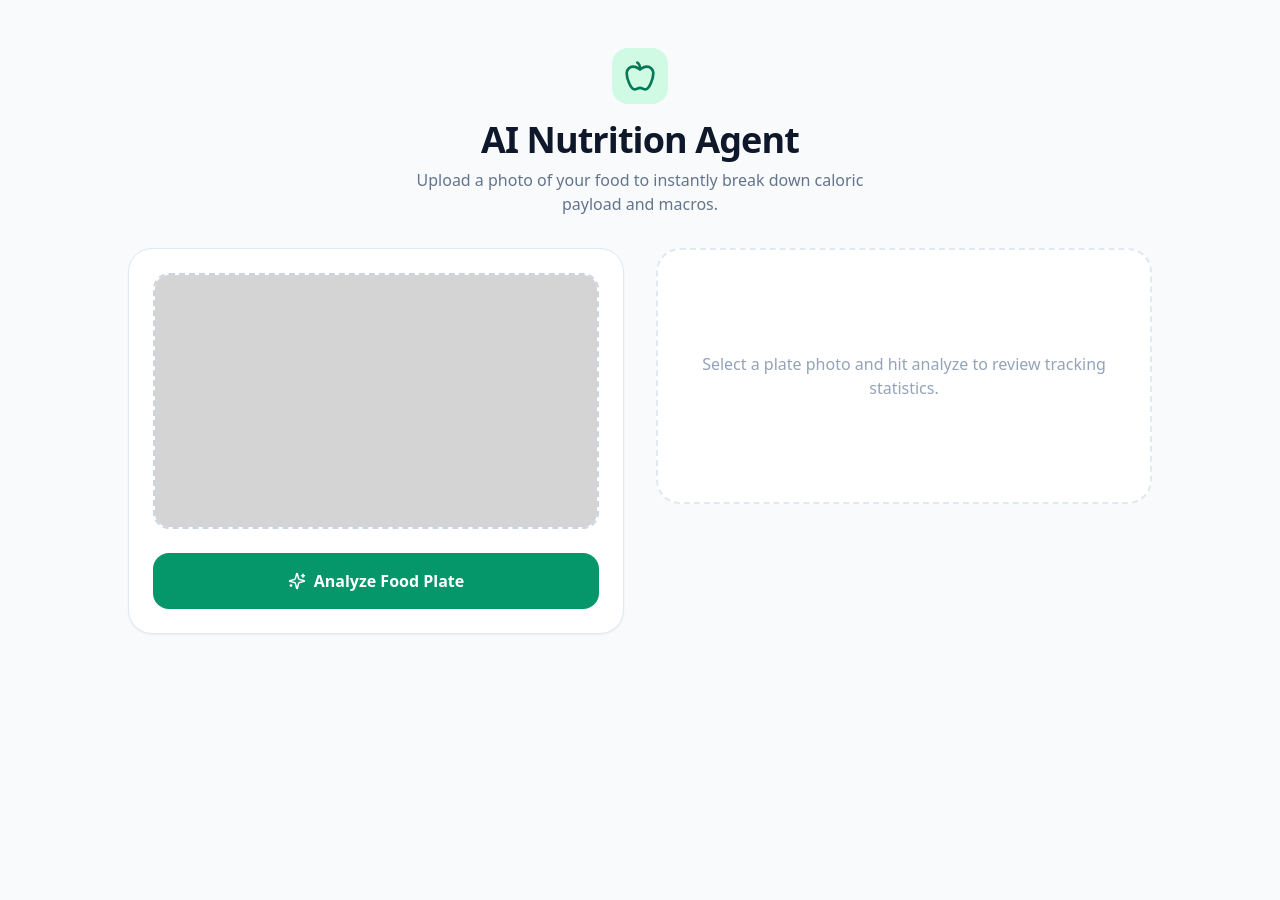
Test: Home page › analyze flow › renders total calories, confidence and macro totals
Earlier steps of the test are not shown.
Click the button.
click(376, 581)  # box 153,553 -> 599,609
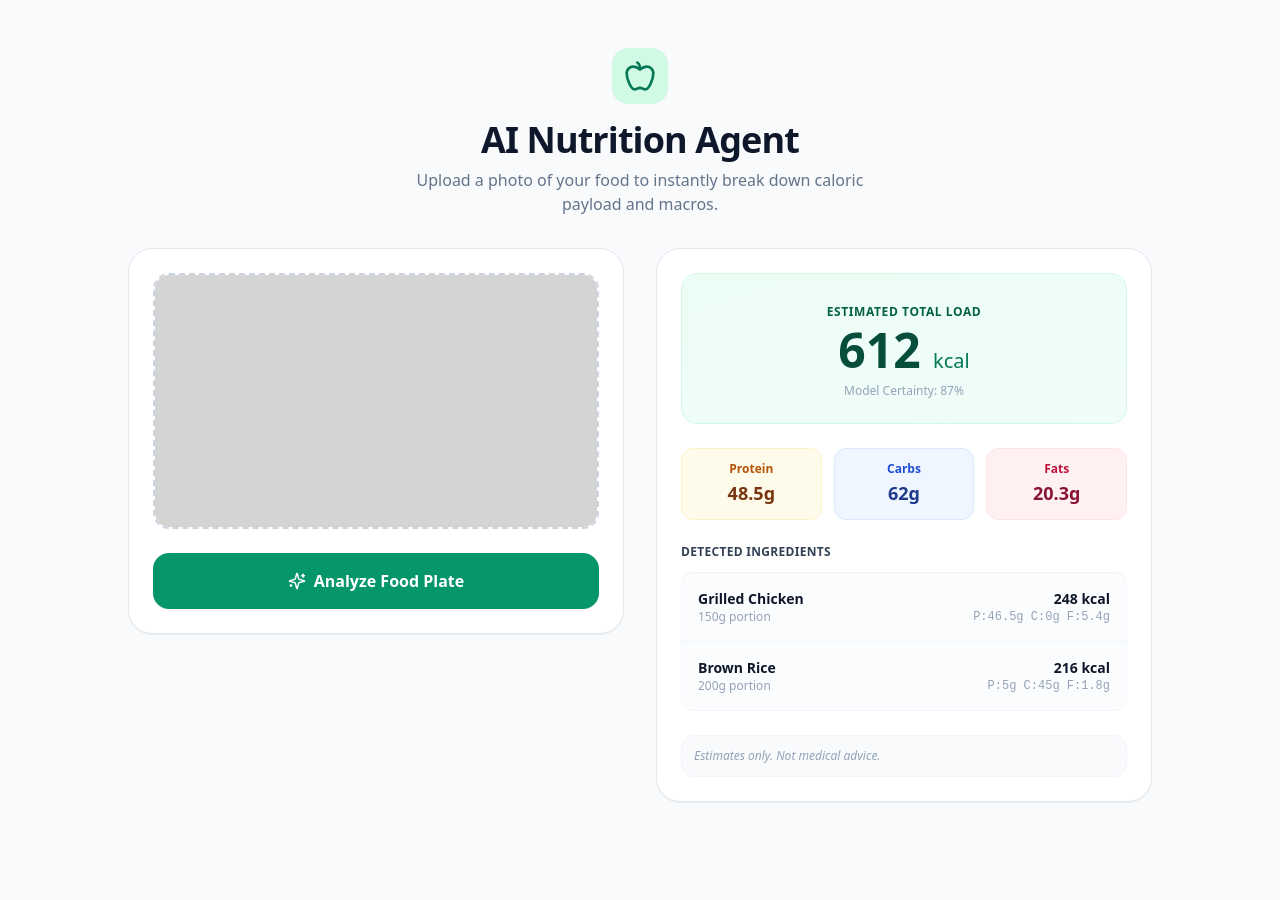
Now the text "Estimated Total Load" is shown, box 827,303 -> 981,320
Now the text "612" is shown, box 838,317 -> 921,382
Now the text "Model Certainty: 87%" is shown, box 844,382 -> 964,399
